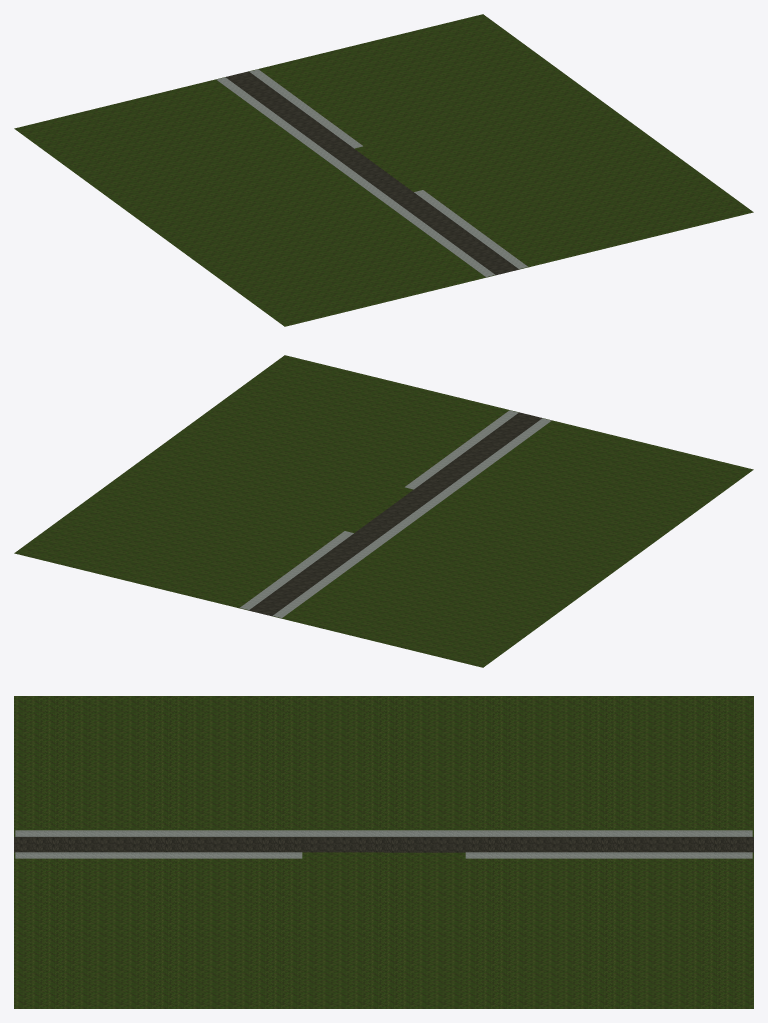
Rendered from terrain_01.glb.
The picture shows the model from 3 angles, top to bottom: view 1: azimuth 30°, elevation 25°; view 2: azimuth 150°, elevation 25°; view 3: azimuth 270°, elevation 25°; orthographic projection. The views are drawn at different scales.
Visible parts, largest first — view 1: tierra, acera.002 (×3); view 2: tierra, acera.002 (×3); view 3: tierra, acera.002 (×3).
Boxes of the visible parts, x1,y1,x2,y2 form: tierra: [14, 14, 753, 326]; acera.002 (×3): [216, 69, 527, 277]; tierra: [14, 355, 753, 667]; acera.002 (×3): [240, 410, 551, 618]; tierra: [14, 696, 753, 1008]; acera.002 (×3): [15, 830, 752, 858].
Bounding box in the file's own units: 200 × 0.0625 × 200.
5 materials, 5 textured.
